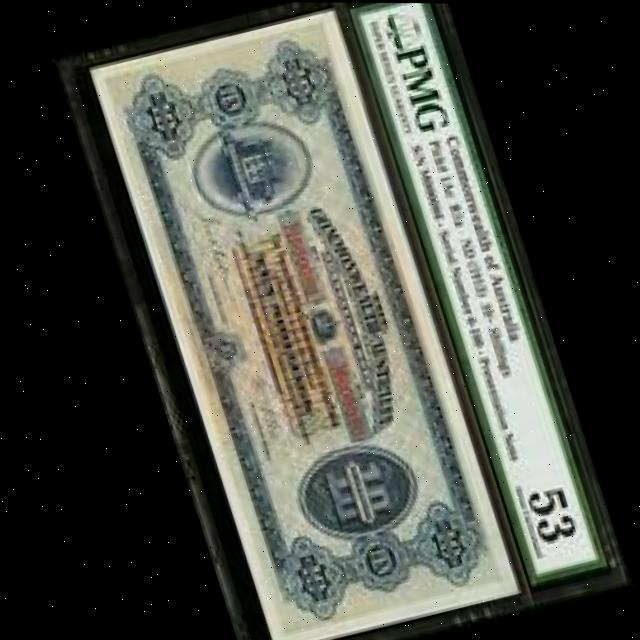banknote: (81, 5, 517, 640)
